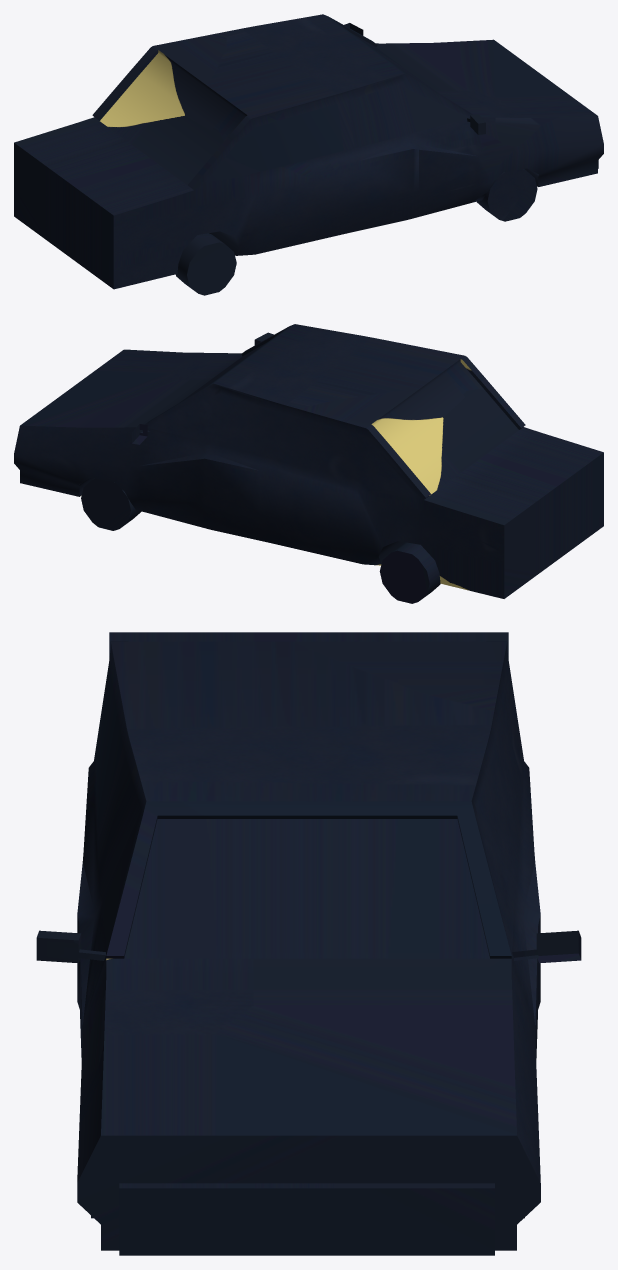
The model's file is Car_Static.fbx.
The picture shows the model from 3 angles, top to bottom: view 1: azimuth 30°, elevation 25°; view 2: azimuth 150°, elevation 25°; view 3: azimuth 270°, elevation 25°; orthographic projection. The views are drawn at different scales.
Visible parts, largest first — view 1: Car; view 2: Car; view 3: Car.
Part boxes in pixels (x1=…): Car: x1=14, y1=14, x2=603, y2=295; Car: x1=14, y1=324, x2=603, y2=603; Car: x1=36, y1=632, x2=581, y2=1255.
Size of the model in its own units: 4.08 by 1.28 by 1.97.
